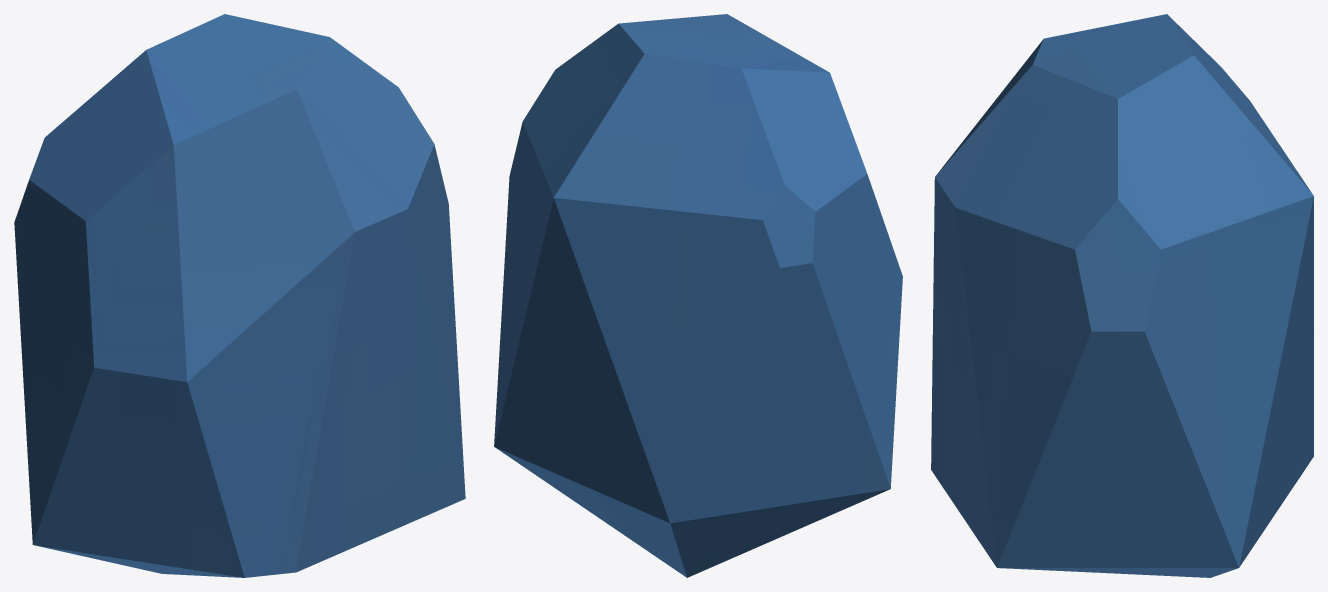
Rendered from stone2.glb.
3 views of the same model, side by side, from view 1: azimuth 30°, elevation 25°; view 2: azimuth 150°, elevation 25°; view 3: azimuth 270°, elevation 25° (orthographic). The views are drawn at different scales.
Parts seen in each view (by area): view 1: Icosphere; view 2: Icosphere; view 3: Icosphere.
Boxes of the visible parts, bbox=[...] form: Icosphere: bbox=[14, 14, 465, 577]; Icosphere: bbox=[494, 14, 902, 577]; Icosphere: bbox=[931, 14, 1313, 577].
Size of the model in its own units: 1.19 by 1.56 by 0.9853.
1 material, 1 textured.
